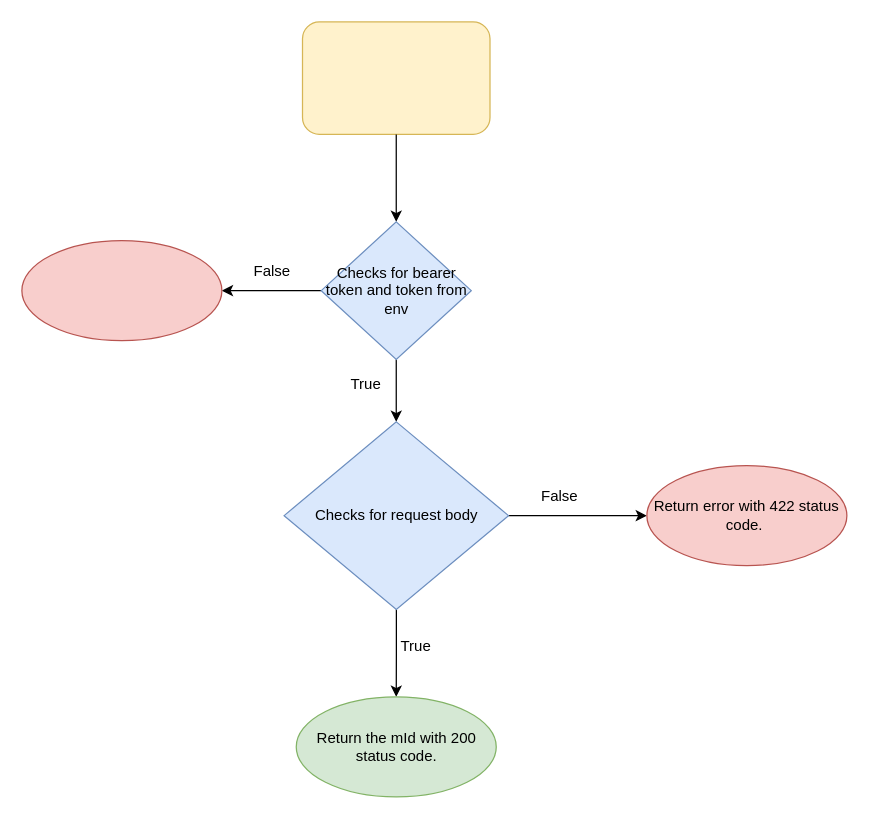
Image size: 869x819. Some labels were removed from this diagram. The centre of each missing label's shape, as x and y in pixels:
"POST /message" belongs at pixel 395 77.
"Return 'Unathorized' with 400." belongs at pixel 121 290.
